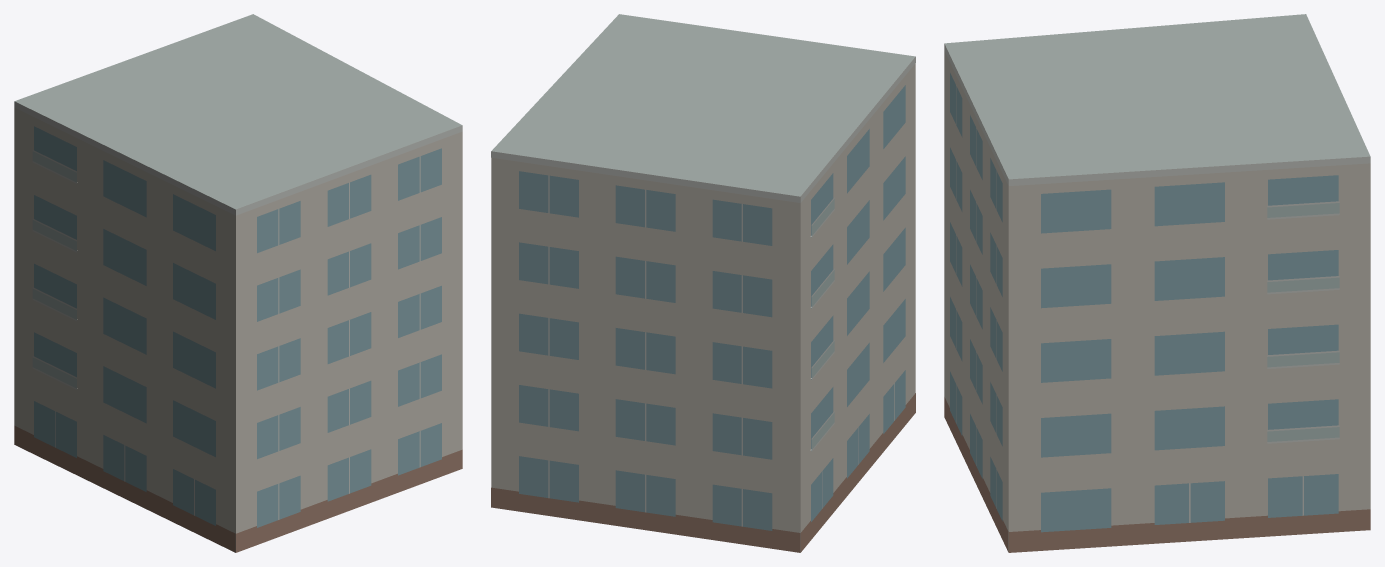
The model's file is survey-upis-32714578.glb.
3 views of the same model, side by side, from view 1: azimuth 30°, elevation 25°; view 2: azimuth 150°, elevation 25°; view 3: azimuth 270°, elevation 25° (orthographic). The views are drawn at different scales.
Visible parts, largest first — view 1: survey-upis-32714578.tmp; view 2: survey-upis-32714578.tmp; view 3: survey-upis-32714578.tmp.
Boxes of the visible parts, x1,y1,x2,y2 form: survey-upis-32714578.tmp: (14, 14, 462, 552); survey-upis-32714578.tmp: (491, 14, 915, 552); survey-upis-32714578.tmp: (944, 14, 1370, 552).
Bounding box in the file's own units: 12.83 × 13.5 × 13.98.
